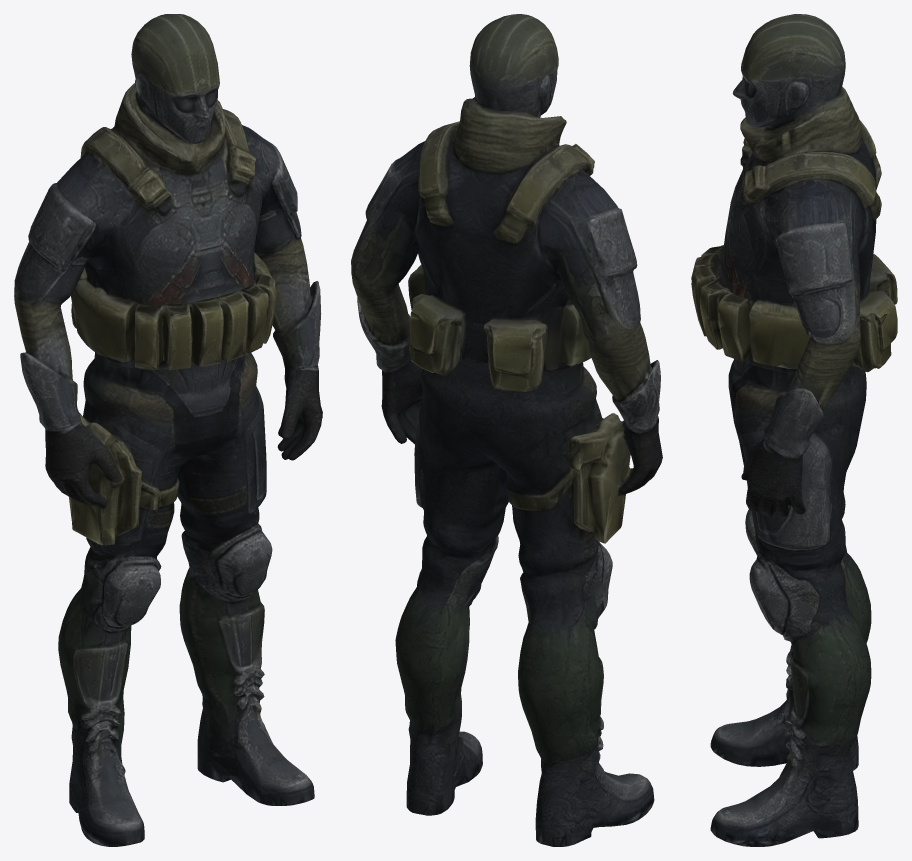
File: ogo-player-character-v2.glb
3 views of the same model, side by side, from view 1: azimuth 30°, elevation 25°; view 2: azimuth 150°, elevation 25°; view 3: azimuth 270°, elevation 25° (orthographic).
Parts seen in each view (by area): view 1: Mesh_0.002; view 2: Mesh_0.002; view 3: Mesh_0.002.
Boxes of the visible parts, x1,y1,x2,y2 form: Mesh_0.002: (14,14,322,846); Mesh_0.002: (351,14,662,846); Mesh_0.002: (691,14,897,846).
Bounding box in the file's own units: 0.7136 × 1.8 × 0.4327.
Materials: 1 (1 with a texture image).
